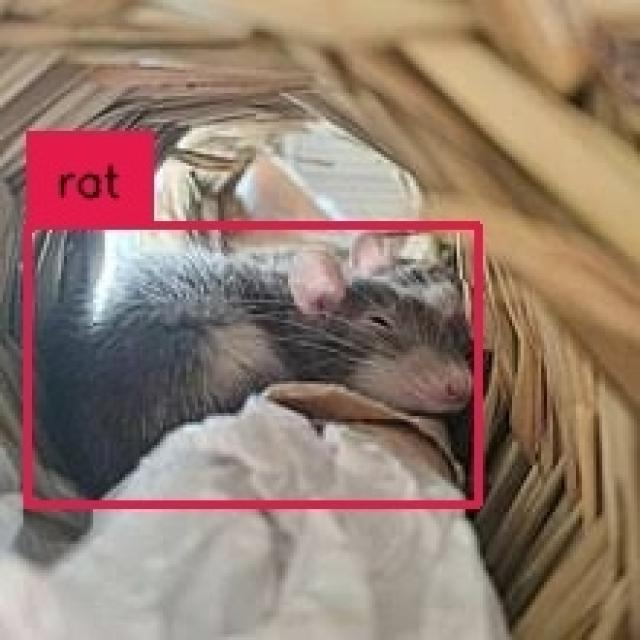rat: (28, 225, 478, 505)
